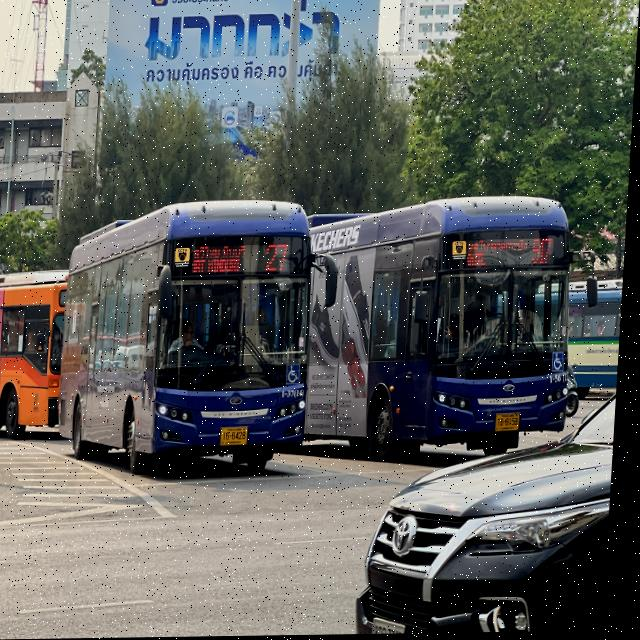BMTA-bus: (0, 271, 72, 441)
Bus Line Number: (264, 241, 295, 277), (532, 235, 559, 267)
Bus Side Number: (552, 369, 575, 389), (285, 388, 310, 399)
Destination Sign: (192, 241, 259, 278), (466, 238, 533, 269)
TSB-Bus: (310, 198, 581, 465), (64, 201, 317, 475)
